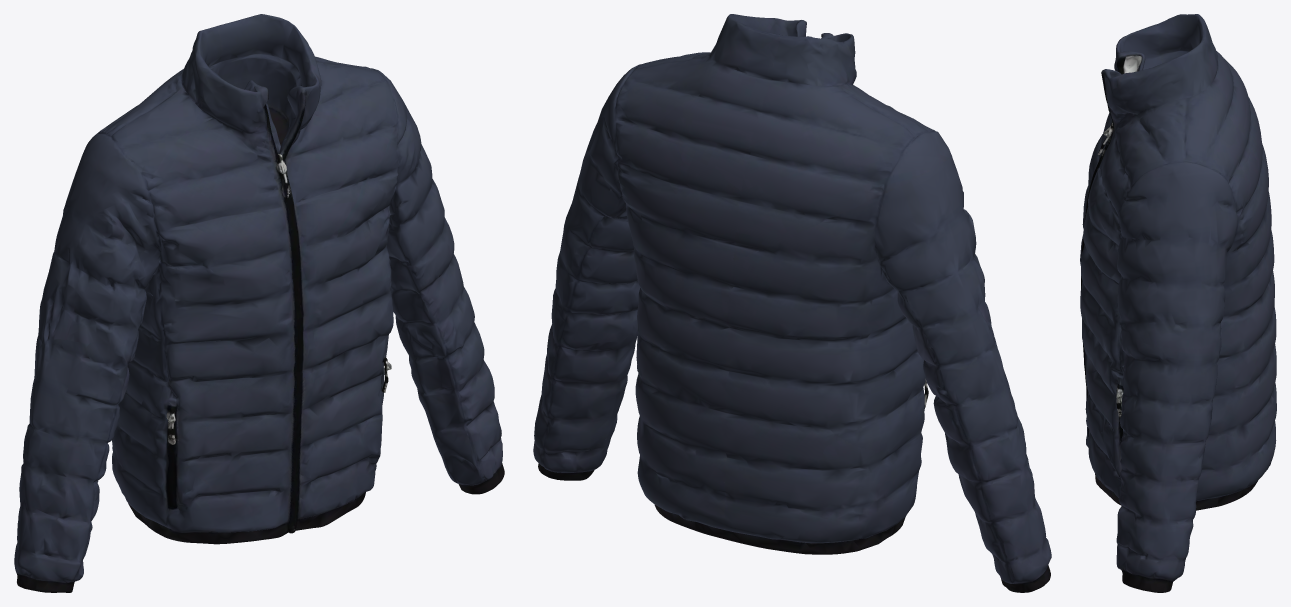
3 views of the same model, side by side, from view 1: azimuth 30°, elevation 25°; view 2: azimuth 150°, elevation 25°; view 3: azimuth 270°, elevation 25° (orthographic). The views are drawn at different scales.
Visible parts, largest first — view 1: tripo_node_ef34a0f2-f659-4ac8-8e02-e1437171b735; view 2: tripo_node_ef34a0f2-f659-4ac8-8e02-e1437171b735; view 3: tripo_node_ef34a0f2-f659-4ac8-8e02-e1437171b735.
Part boxes in pixels (x1,y1,x2,y2): tripo_node_ef34a0f2-f659-4ac8-8e02-e1437171b735: [14, 14, 504, 592]; tripo_node_ef34a0f2-f659-4ac8-8e02-e1437171b735: [533, 14, 1051, 592]; tripo_node_ef34a0f2-f659-4ac8-8e02-e1437171b735: [1080, 14, 1276, 592].
Bounding box in the file's own units: 0.9998 × 0.9835 × 0.379.
1 material, 1 textured.
